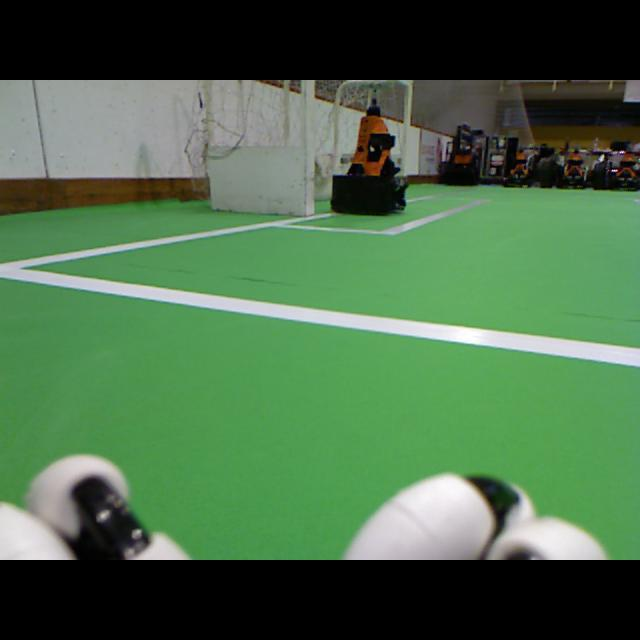goal: (305, 80, 315, 215), (403, 81, 413, 178)
robot: (332, 86, 407, 218), (444, 138, 479, 185), (612, 143, 638, 191), (559, 144, 585, 189), (506, 144, 530, 188)
